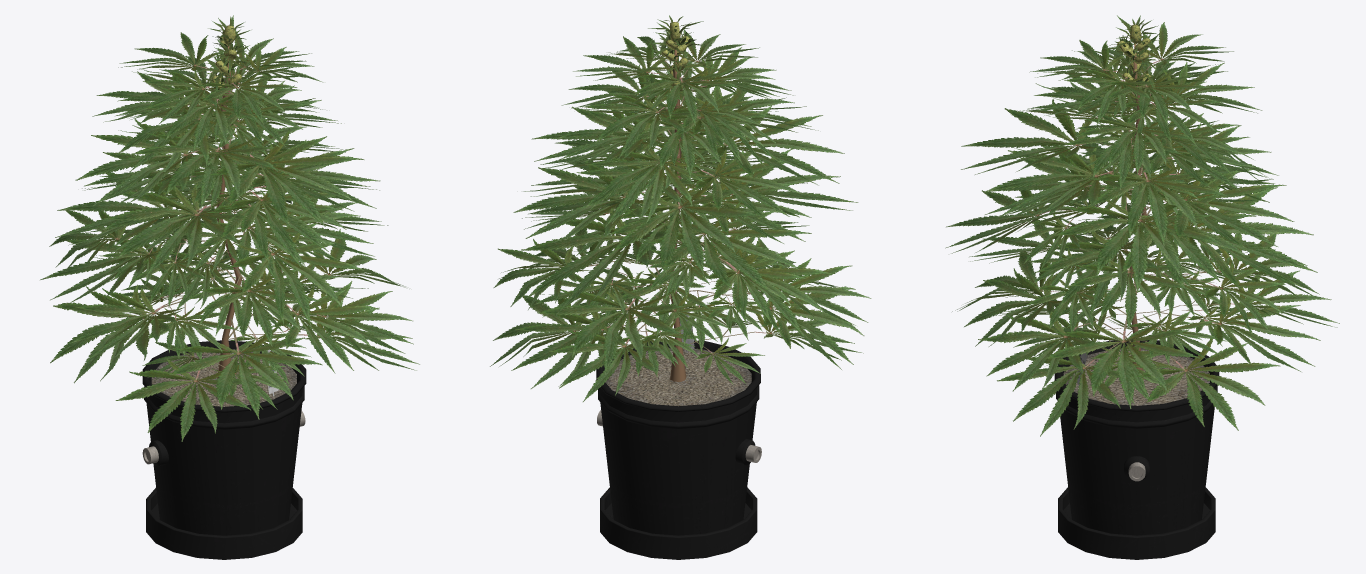
The model's file is Weed Plant Medium_a.fbx.
3 views of the same model, side by side, from view 1: azimuth 30°, elevation 25°; view 2: azimuth 150°, elevation 25°; view 3: azimuth 270°, elevation 25° (orthographic).
Visible parts, largest first — view 1: Weed Plant Medium_a; view 2: Weed Plant Medium_a; view 3: Weed Plant Medium_a.
Part boxes in pixels (box(x1,y1,x2,y2)): Weed Plant Medium_a: box(40, 15, 419, 559); Weed Plant Medium_a: box(490, 15, 871, 559); Weed Plant Medium_a: box(945, 15, 1339, 559).
Bounding box in the file's own units: 120 × 155 × 118.
6 materials, 6 textured.
